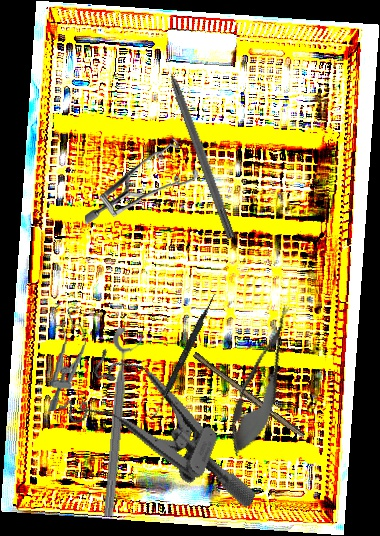Fixation Ring: (97, 327, 146, 518)
Hook Surgical: (159, 50, 238, 240)
Micro Scissor: (218, 299, 306, 463)
Scalpel Handle: (190, 351, 307, 441)
Spatula Surgical: (150, 291, 217, 423)
Speculum: (49, 340, 286, 510), (85, 135, 199, 227), (40, 302, 90, 414)
